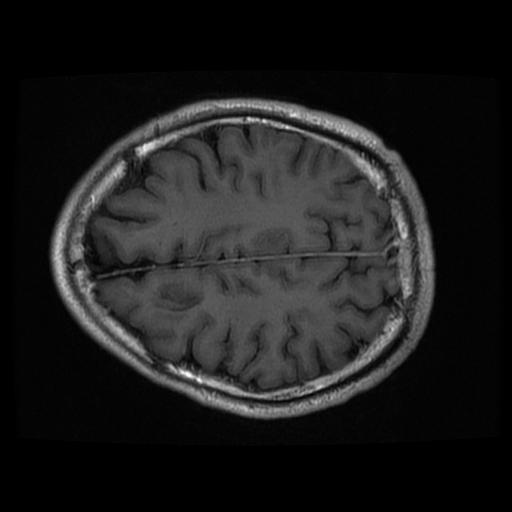glioma: (146, 280, 206, 313)
